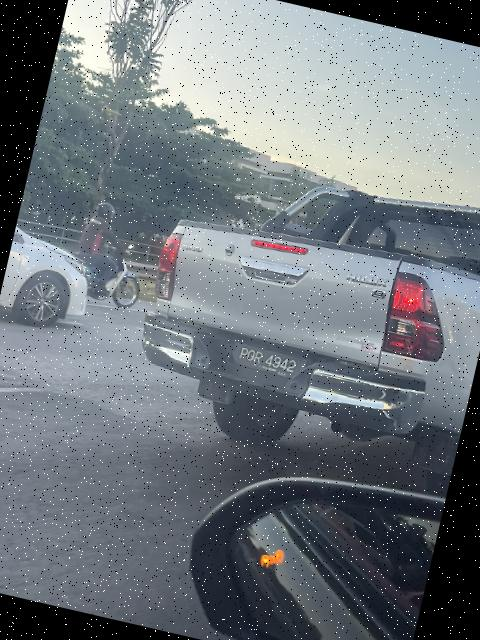License_Plate: (218, 336, 316, 389)
car: (122, 140, 480, 484)
